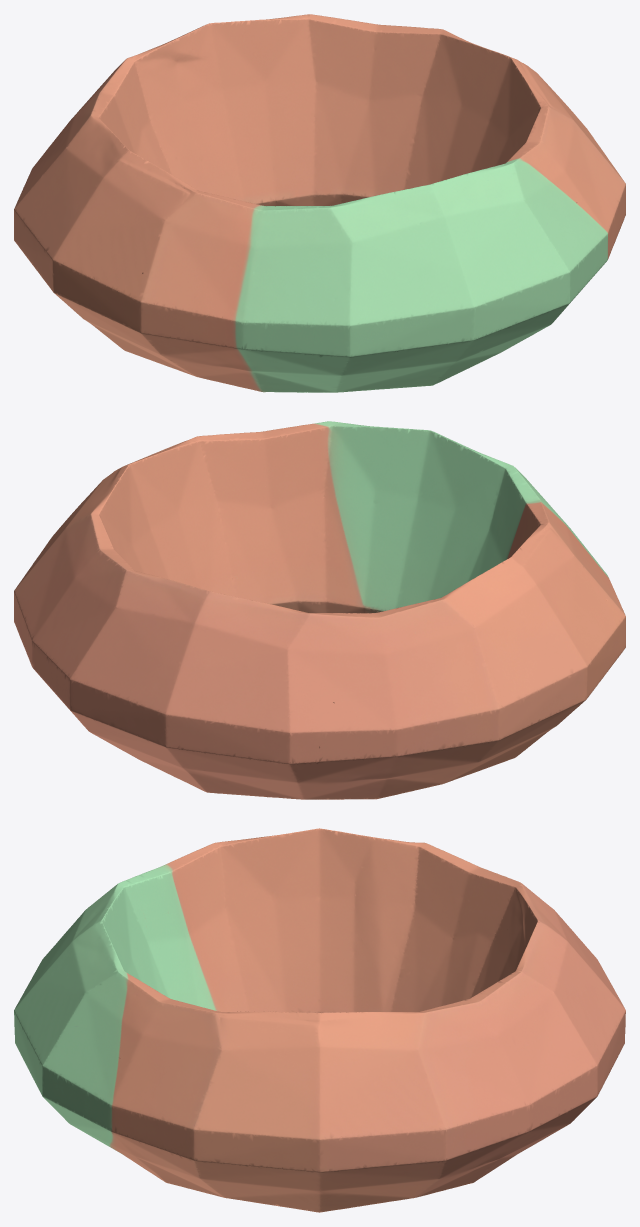
File: accessories_set_2_item_17.glb
3 renders of one model, top to bottom at view 1: azimuth 30°, elevation 25°; view 2: azimuth 150°, elevation 25°; view 3: azimuth 270°, elevation 25°, orthographic.
Bounding box in the file's own units: 1.9 × 0.6758 × 1.9.
1 material, 1 textured.
